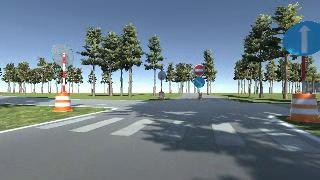go_ahead: (283, 20, 318, 56)
